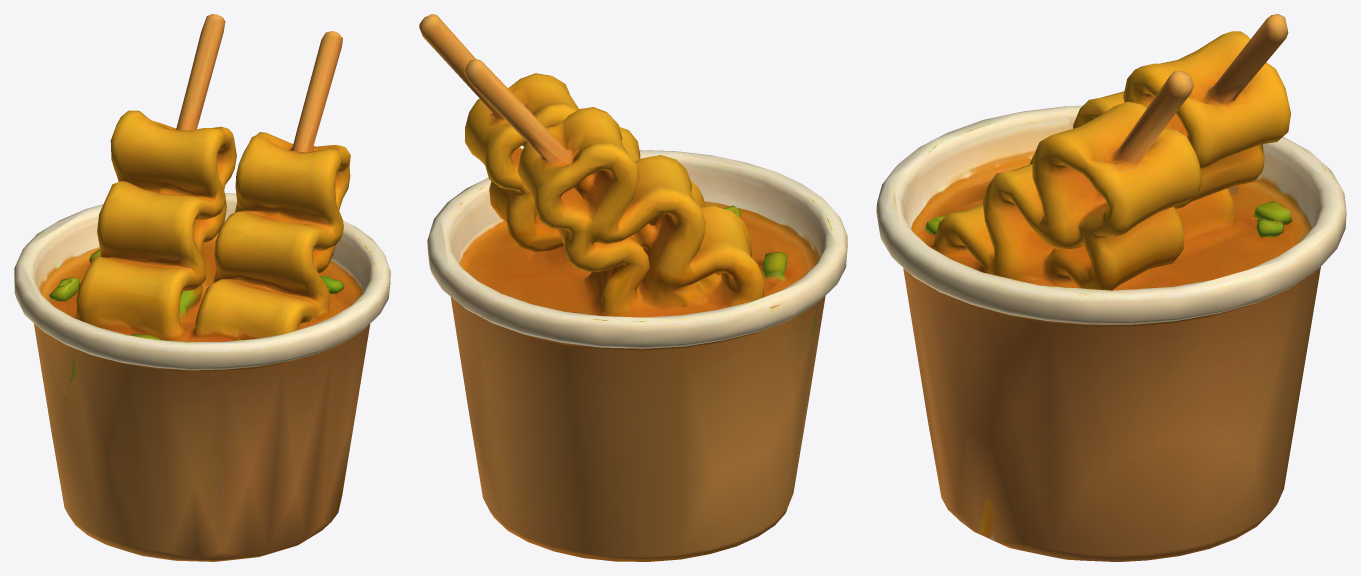
3 renders of one model, left to right at view 1: azimuth 30°, elevation 25°; view 2: azimuth 150°, elevation 25°; view 3: azimuth 270°, elevation 25°, orthographic. The views are drawn at different scales.
Parts seen in each view (by area): view 1: eomuk; view 2: eomuk; view 3: eomuk.
Part boxes in pixels (x1,y1,x2,y2): eomuk: (14, 14, 390, 561); eomuk: (419, 14, 847, 561); eomuk: (876, 14, 1346, 561).
Bounding box in the file's own units: 0.1465 × 0.18 × 0.1456.
1 material, 1 textured.
